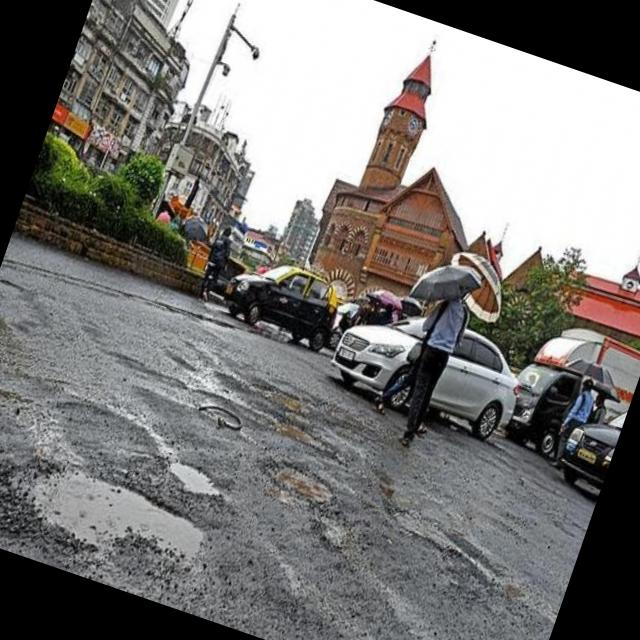Potholes: (0, 403, 249, 607), (248, 442, 374, 556), (160, 440, 242, 513)
